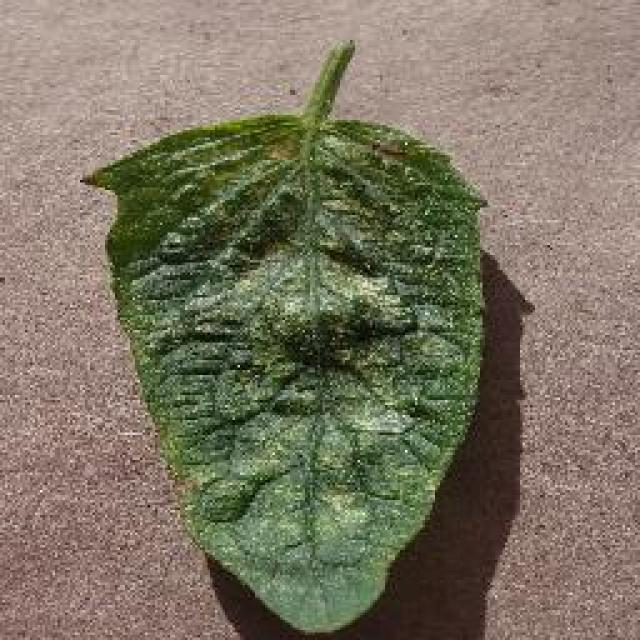Tomato___Spider_mites Two-spotted_spider_mite: (88, 40, 482, 630)
